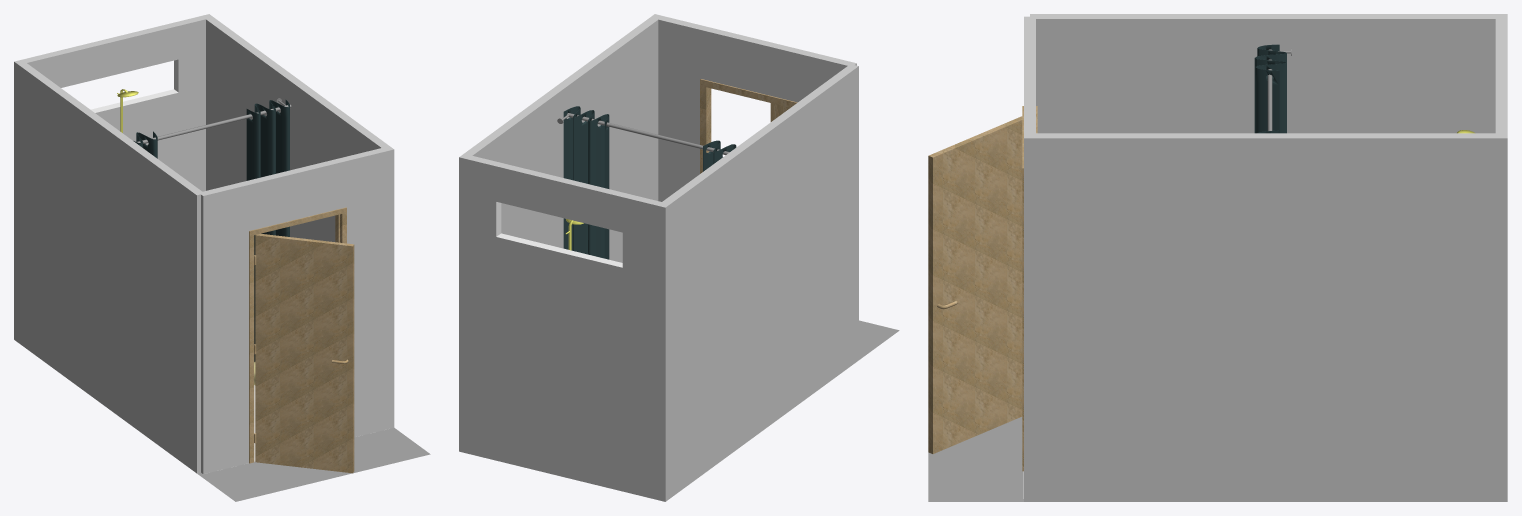
Rendered from BañoIzquierda.obj.
3 views of the same model, side by side, from view 1: azimuth 30°, elevation 25°; view 2: azimuth 150°, elevation 25°; view 3: azimuth 270°, elevation 25° (orthographic). The views are drawn at different scales.
Visible parts, largest first — view 1: wall_3_16, wall_1_5, sweethome3d_opening_on_hinge_1_door_80, wall_5_29, wall_4_23, wall_2_11, ground_1, RightCurtain_63_39, frame_72, wall_5_30, wall_5_31, wall_2_12 (+8 smaller); view 2: wall_3_16, wall_4_22, wall_5_29, wall_1_4, RightCurtain_63_39, wall_2_11, frame_72, wall_5_30, serviceHatch_33, wall_5_31, wall_2_13, wall_2_12 (+7 smaller); view 3: wall_5_28, wall_2_10, sweethome3d_opening_on_hinge_1_door_80, ground_1, LeftCurtain_64_41, wall_5_30, wall_2_13, wall_5_31, wall_2_12, wall_4_24, wall_4_25, frame_72 (+3 smaller).
Boxes of the visible parts, x1=… form: wall_3_16: x1=14, y1=62, x2=196, y2=472; wall_1_5: x1=201, y1=149, x2=394, y2=474; sweethome3d_opening_on_hinge_1_door_80: x1=255, y1=233, x2=354, y2=473; wall_5_29: x1=206, y1=19, x2=380, y2=241; wall_4_23: x1=27, y1=19, x2=205, y2=191; wall_2_11: x1=117, y1=150, x2=200, y2=473; ground_1: x1=197, y1=427, x2=430, y2=501; RightCurtain_63_39: x1=246, y1=100, x2=289, y2=361; frame_72: x1=249, y1=207, x2=346, y2=463; wall_5_30: x1=207, y1=14, x2=393, y2=149; wall_5_31: x1=206, y1=17, x2=387, y2=148; wall_2_12: x1=21, y1=61, x2=201, y2=192; wall_3_16: x1=665, y1=66, x2=858, y2=501; wall_4_22: x1=459, y1=157, x2=665, y2=501; wall_5_29: x1=472, y1=20, x2=658, y2=262; wall_1_4: x1=658, y1=19, x2=847, y2=201; RightCurtain_63_39: x1=563, y1=106, x2=609, y2=259; wall_2_11: x1=820, y1=66, x2=858, y2=387; frame_72: x1=700, y1=79, x2=797, y2=173; wall_5_30: x1=459, y1=14, x2=656, y2=157; serviceHatch_33: x1=496, y1=201, x2=622, y2=267; wall_5_31: x1=466, y1=17, x2=657, y2=156; wall_2_13: x1=664, y1=65, x2=858, y2=205; wall_2_12: x1=660, y1=65, x2=852, y2=204; wall_5_28: x1=1024, y1=138, x2=1507, y2=501; wall_2_10: x1=1036, y1=19, x2=1495, y2=133; sweethome3d_opening_on_hinge_1_door_80: x1=928, y1=116, x2=1022, y2=453; ground_1: x1=928, y1=417, x2=1023, y2=501; LeftCurtain_64_41: x1=1254, y1=44, x2=1286, y2=133; wall_5_30: x1=1025, y1=136, x2=1506, y2=138; wall_2_13: x1=1030, y1=14, x2=1501, y2=16; wall_5_31: x1=1030, y1=133, x2=1500, y2=135; wall_2_12: x1=1031, y1=16, x2=1501, y2=18; wall_4_24: x1=1501, y1=14, x2=1507, y2=138; wall_4_25: x1=1495, y1=17, x2=1501, y2=135; frame_72: x1=1022, y1=106, x2=1037, y2=471.
Size of the model in its own units: 184 by 250 by 361.
17 materials, 2 textured.
